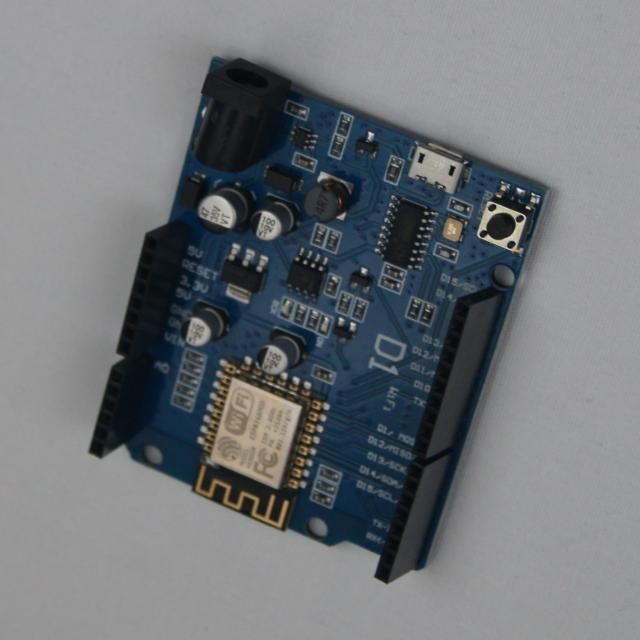Arduino Uno WiFi Shield: (90, 59, 547, 583)
